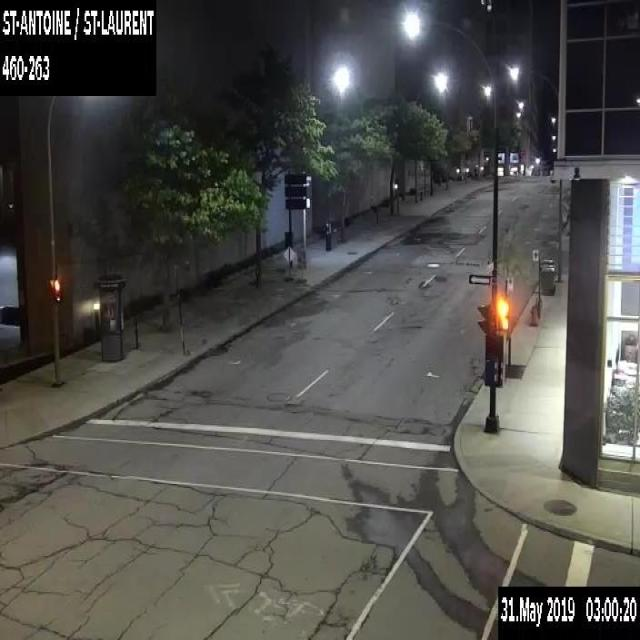construction: (282, 245, 296, 280), (295, 248, 306, 282)
